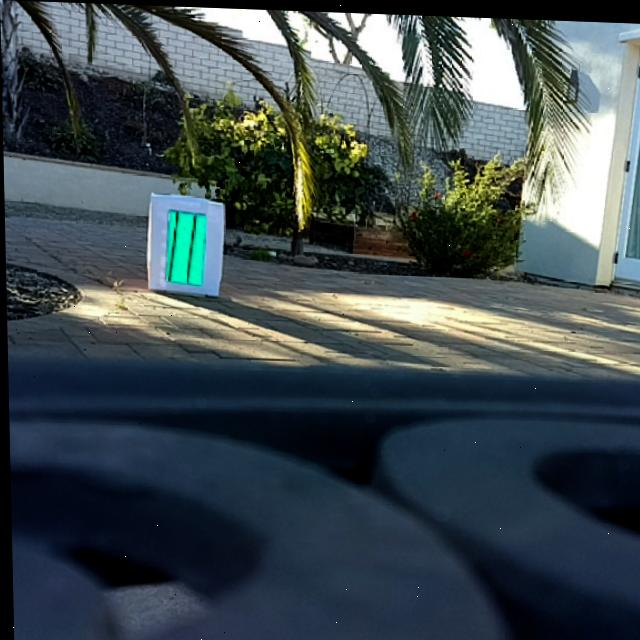led: (165, 208, 204, 285)
